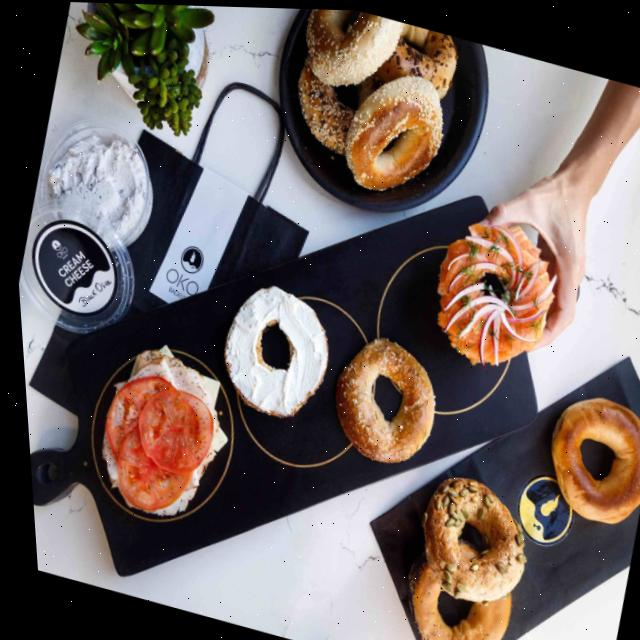Bagel: (415, 474, 518, 599), (330, 335, 429, 461), (544, 393, 640, 520), (342, 72, 441, 188), (400, 556, 503, 640), (305, 7, 403, 84), (374, 27, 456, 95), (296, 56, 353, 152)
